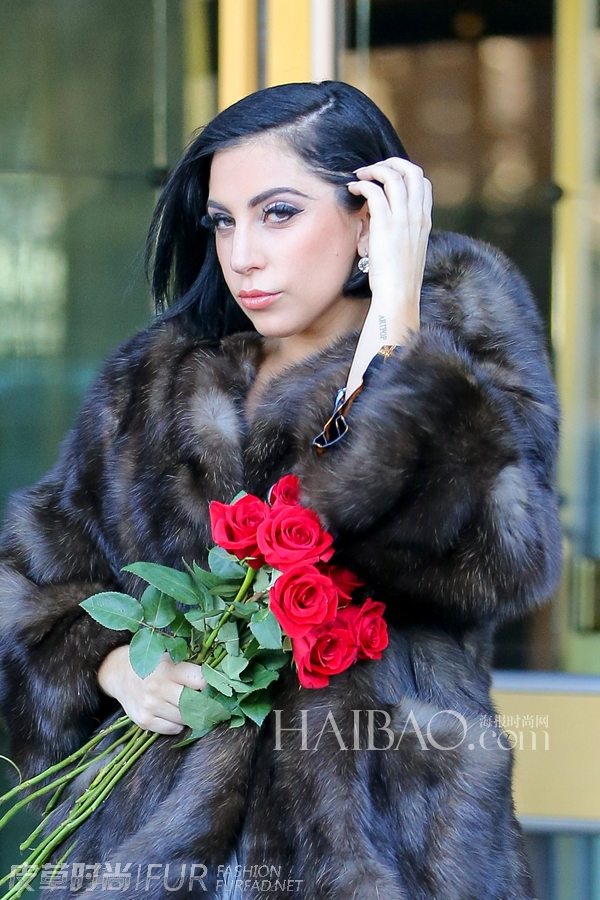handsup: (28, 67, 572, 896)
